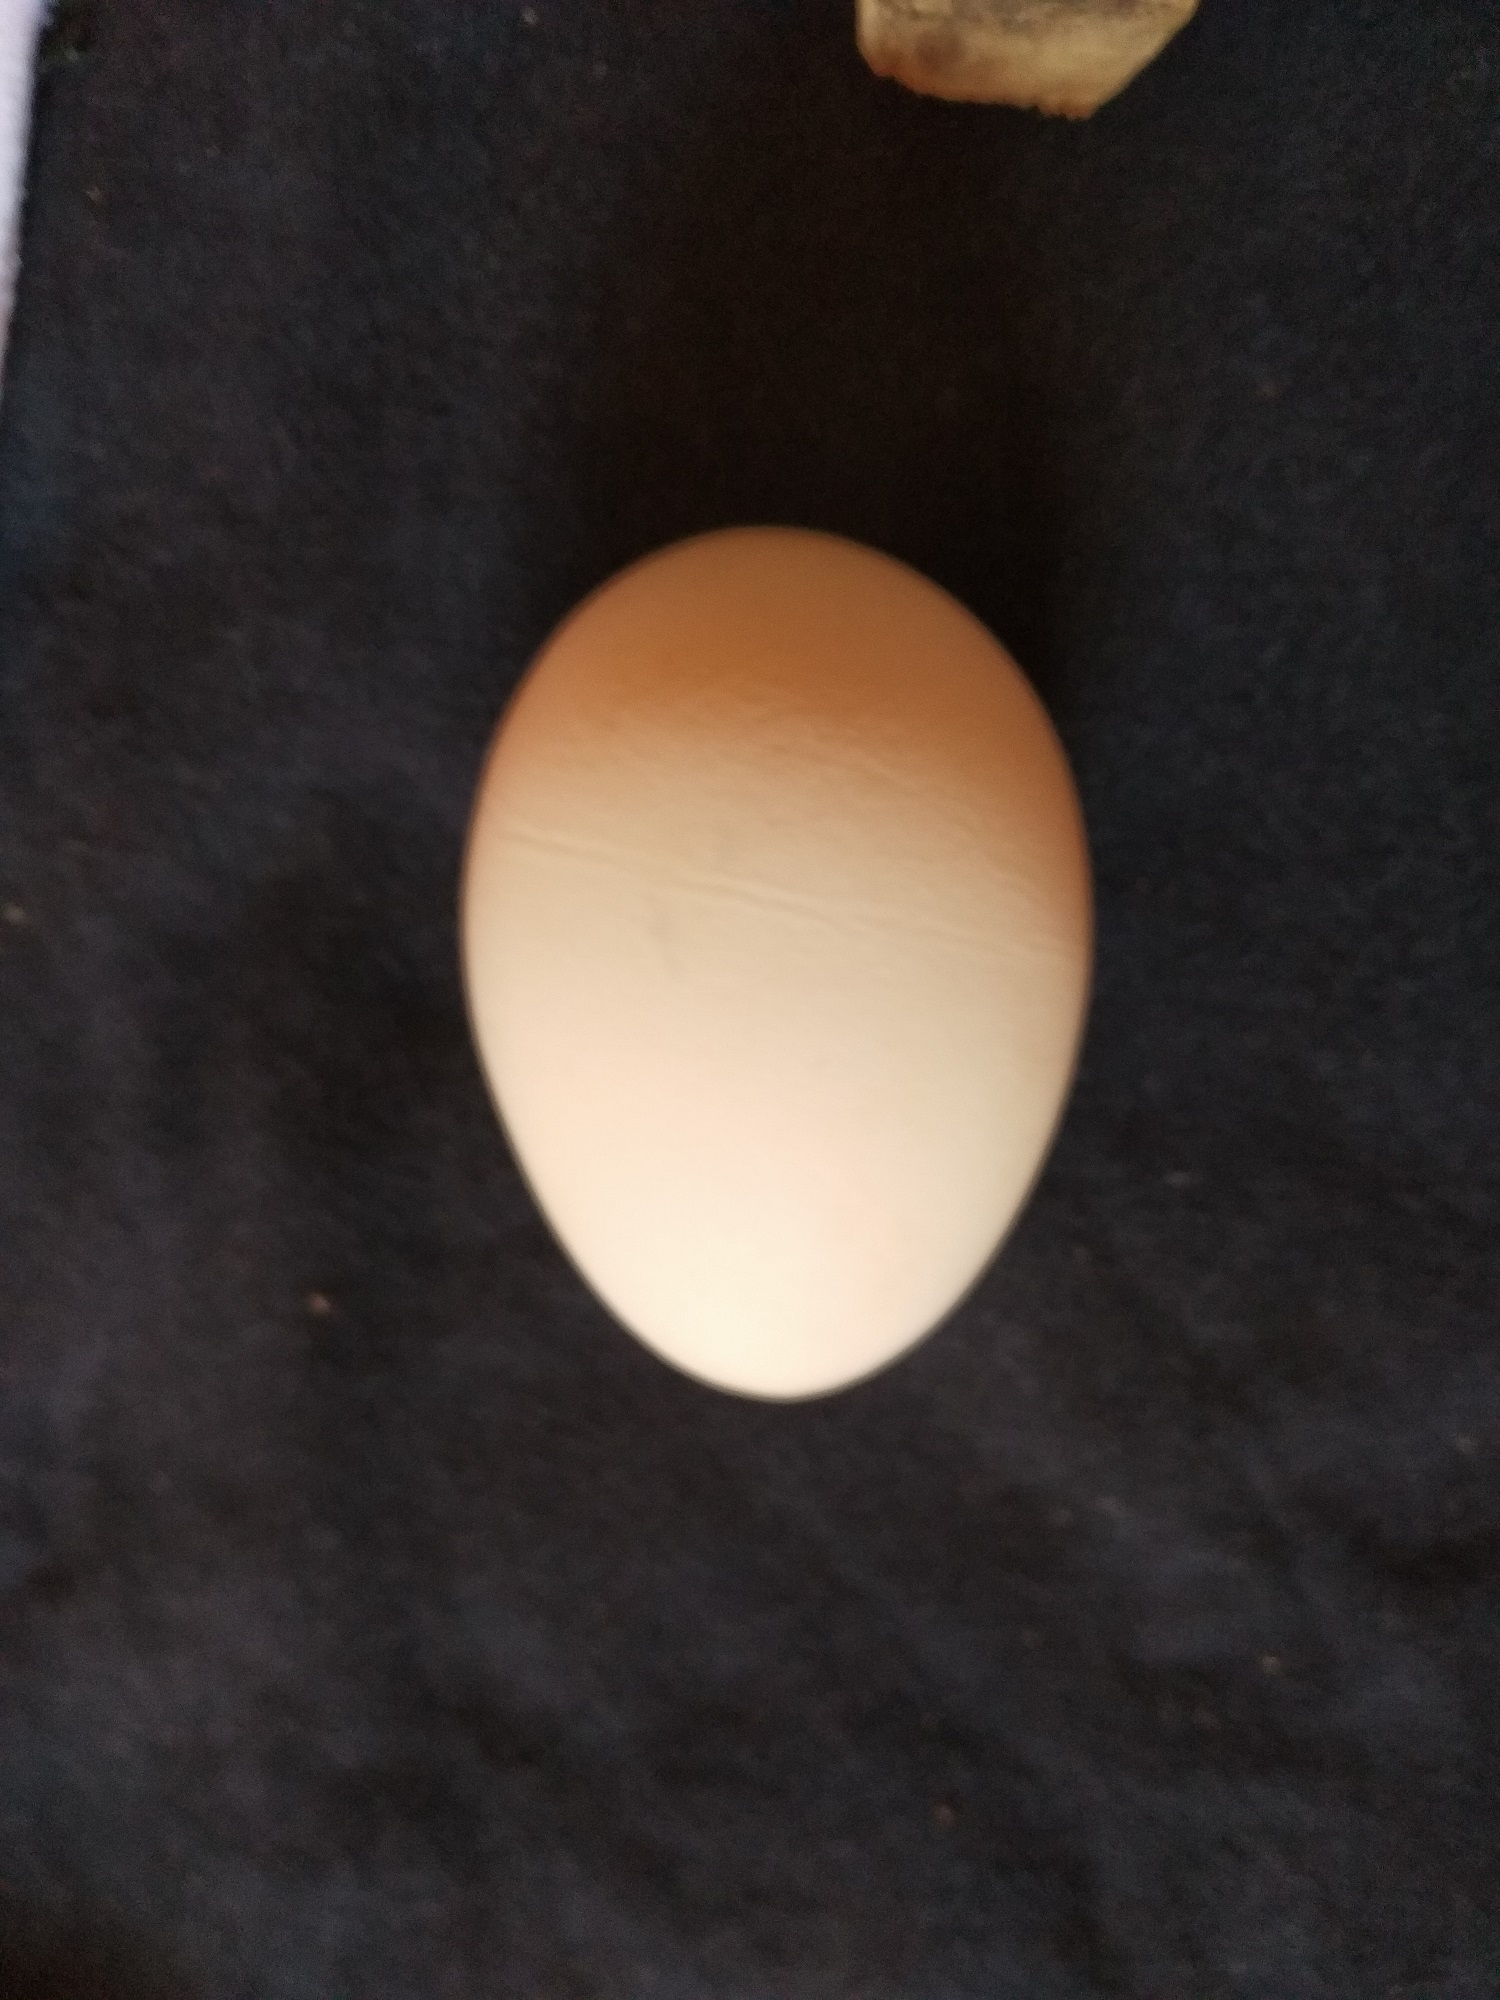Male: (451, 520, 1097, 1408)
